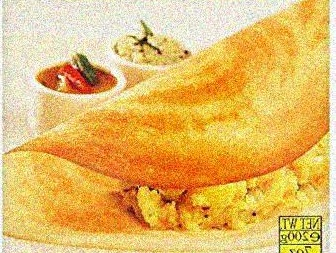dosa: (6, 2, 330, 221)
